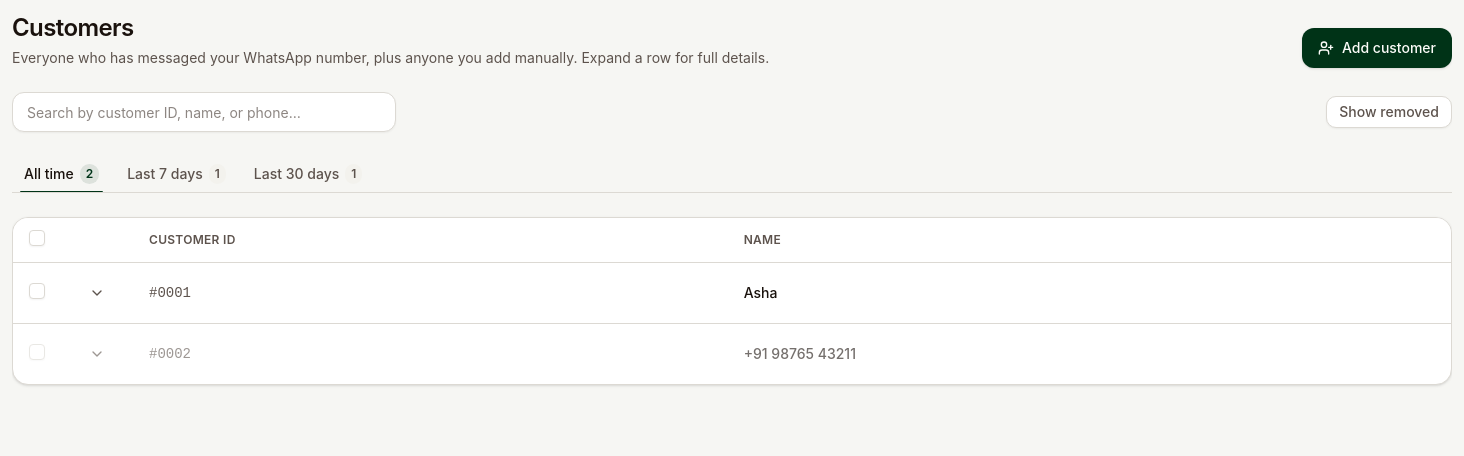
Test case: CustomersPage › shows a bulk "Restore selected" action for a mixed active/inactive selection, firing immediately with no confirmation
Later steps or results of the test are not shown.
expect the text "Asha" is shown: met, box left=728, top=262, right=1451, bottom=323
Step 1. Click the checkbox named "Select Asha" → x=37, y=290, box left=29, top=282, right=45, bottom=298
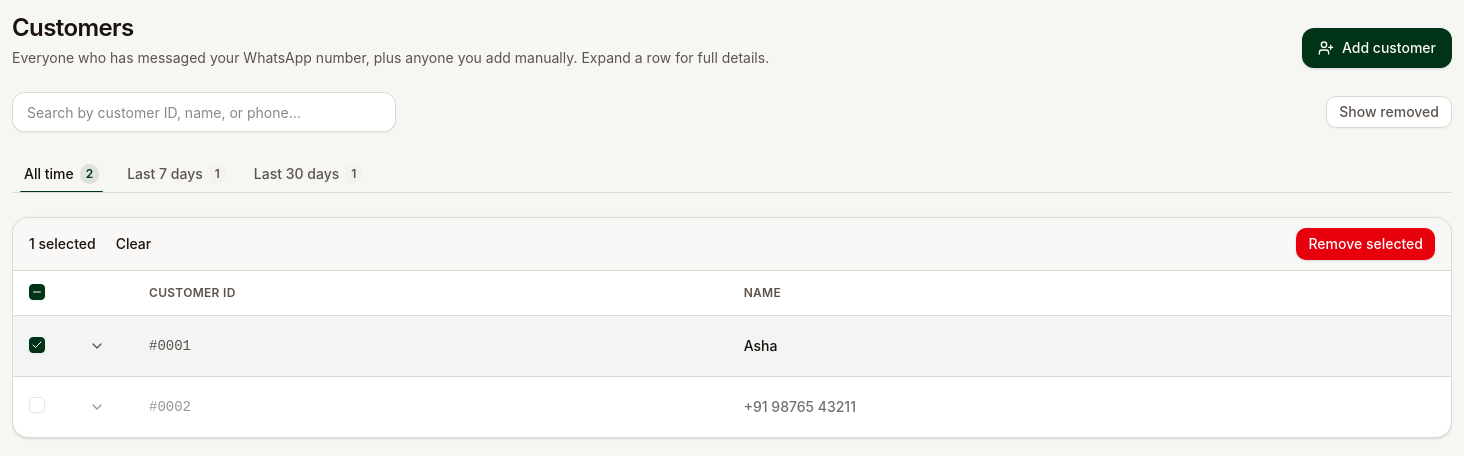
Step 2. Click the checkbox named "Select +91 98765 43211" → x=37, y=404, box left=29, top=396, right=45, bottom=412
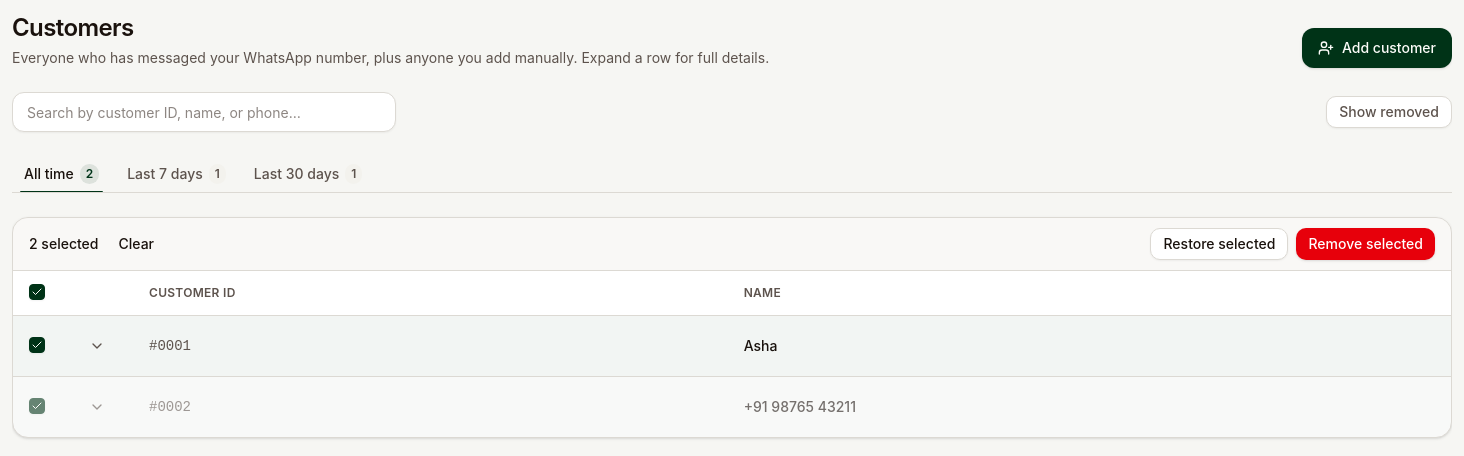
expect the button "Remove selected" is shown: met, box left=1296, top=228, right=1435, bottom=260
expect the button "Restore selected" is shown: met, box left=1150, top=228, right=1288, bottom=260
